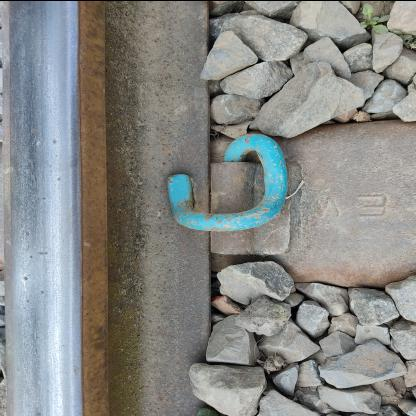Non Defective 1: (151, 105, 335, 269)
